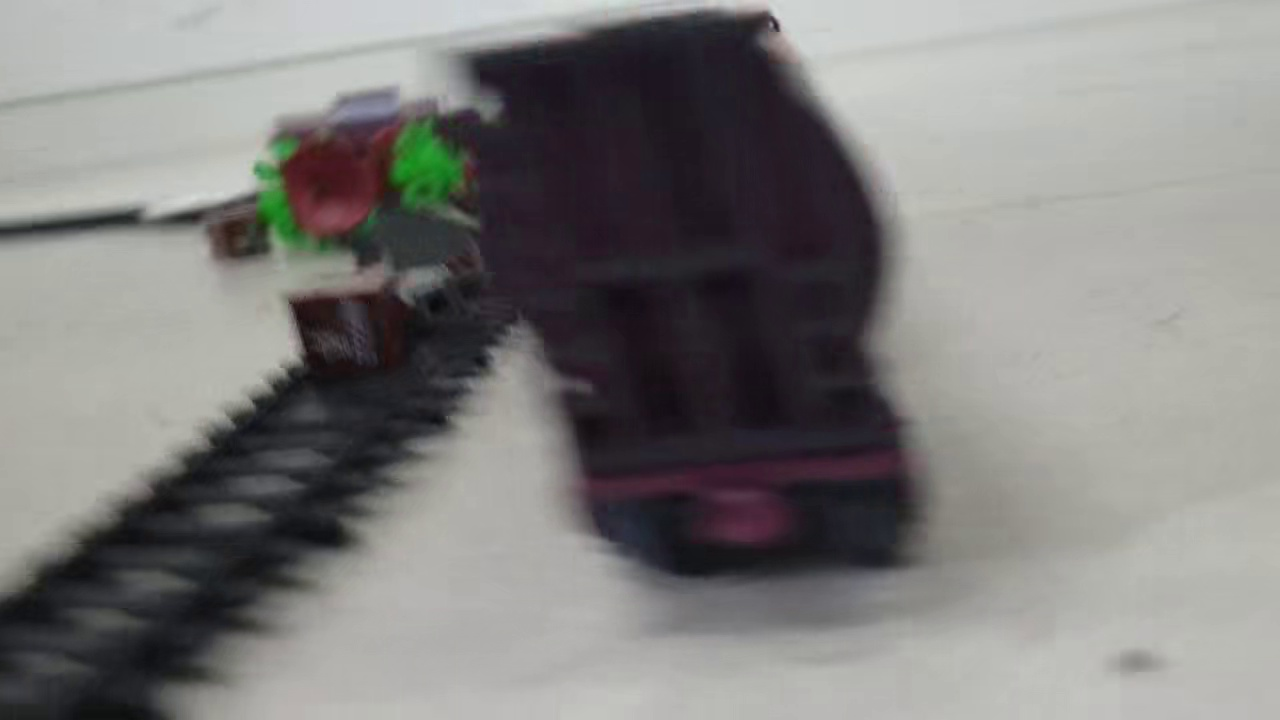box: (288, 280, 416, 369), (203, 207, 275, 262)
tree: (252, 132, 382, 253), (385, 119, 481, 209)
